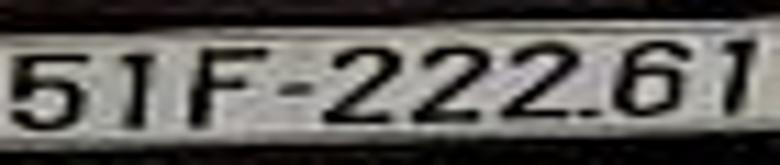-: (277, 80, 312, 97)
.: (584, 108, 596, 115)
1: (725, 36, 755, 117), (121, 53, 152, 131)
2: (323, 47, 397, 125), (413, 44, 482, 122), (505, 45, 571, 119)
5: (8, 52, 92, 129)
6: (619, 42, 687, 117)
F: (188, 46, 262, 130)
